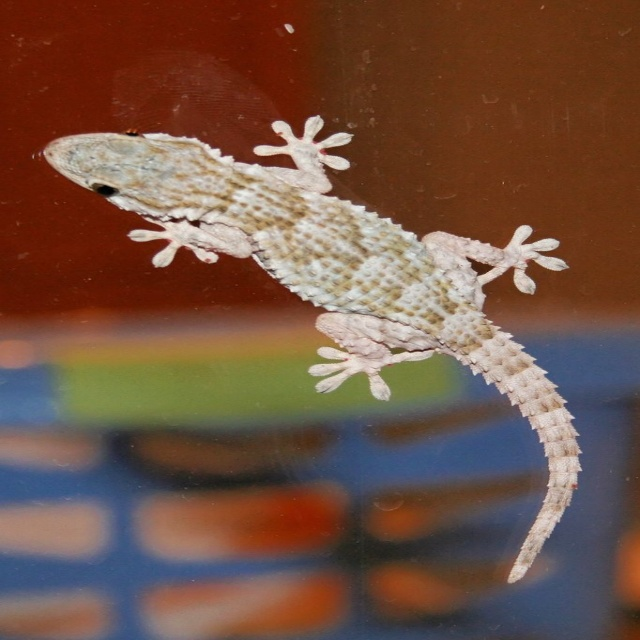Lizard: (39, 85, 588, 516)
